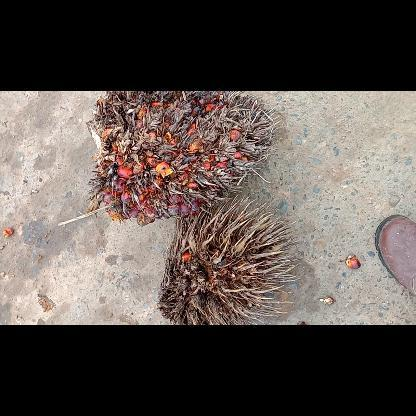Janjang kosong: (158, 194, 300, 324)
Terlalu masak: (58, 91, 280, 225)
